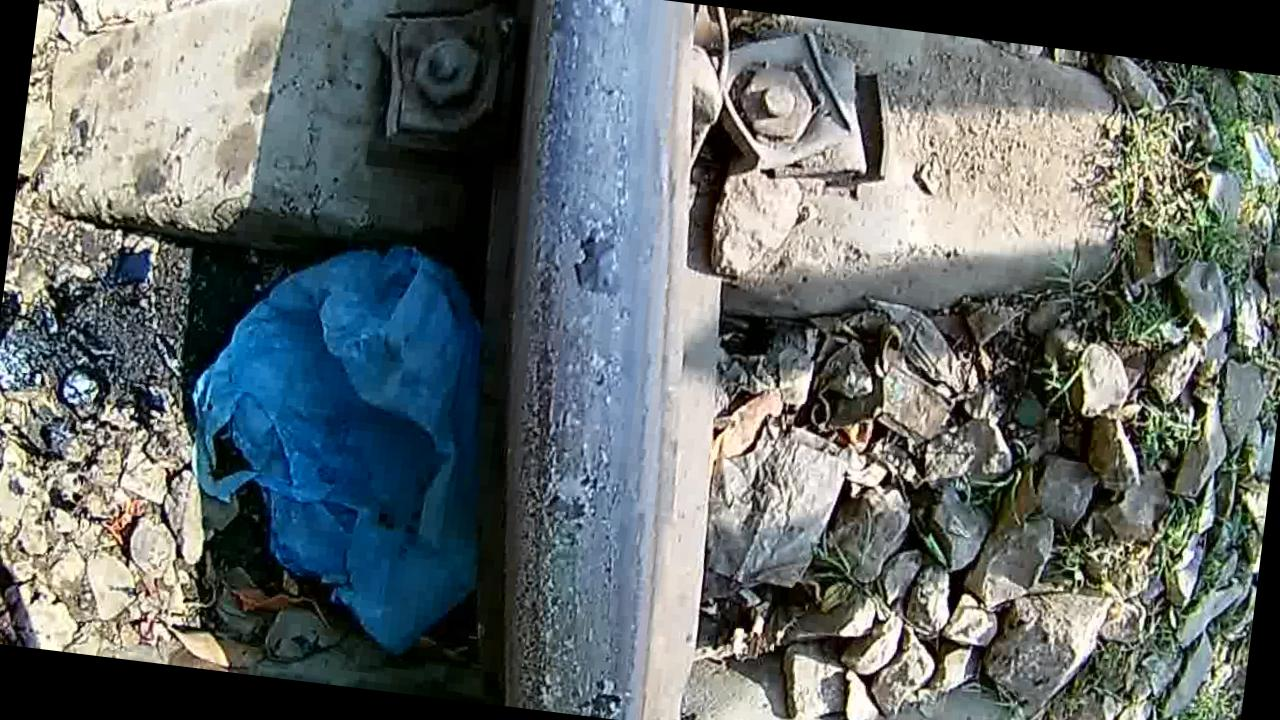crack: (458, 0, 702, 720)
